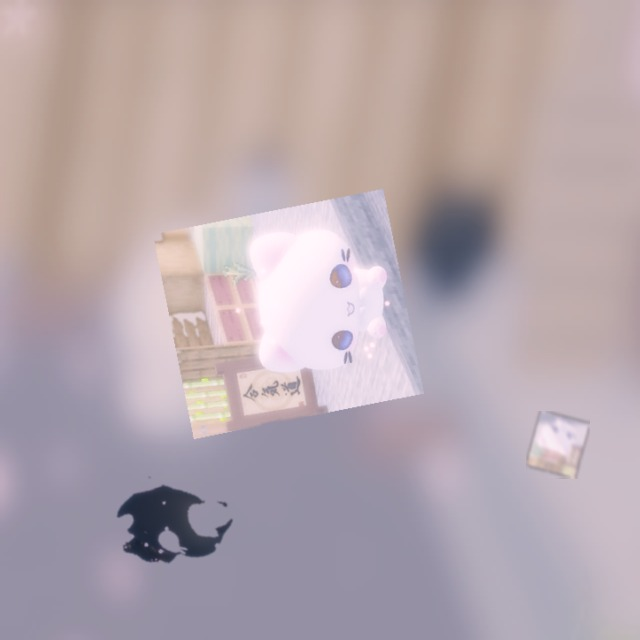urso_branco: (153, 188, 424, 440), (526, 411, 590, 479)
urso_preto: (90, 460, 255, 589)
